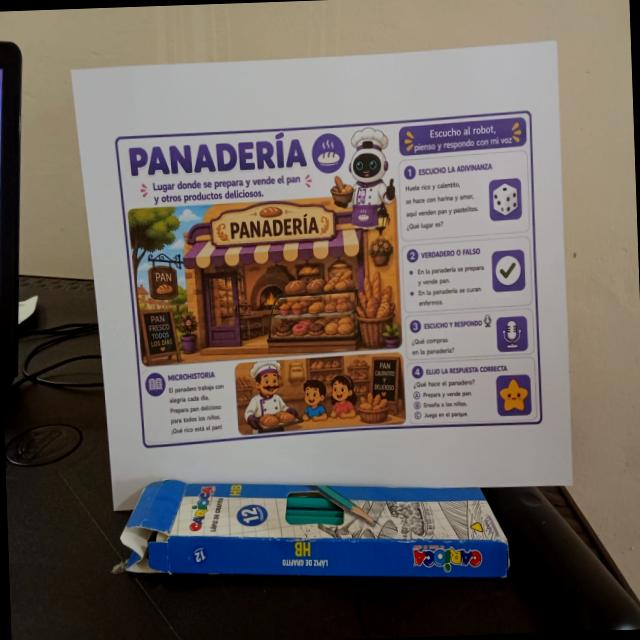panaderia: (110, 104, 547, 453)
